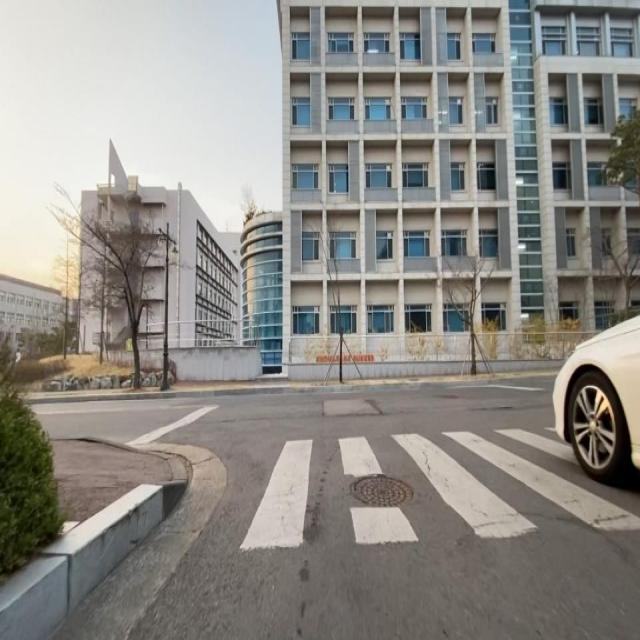sidewalk: (53, 439, 188, 535), (343, 370, 560, 385), (170, 382, 325, 391), (40, 388, 160, 397)
